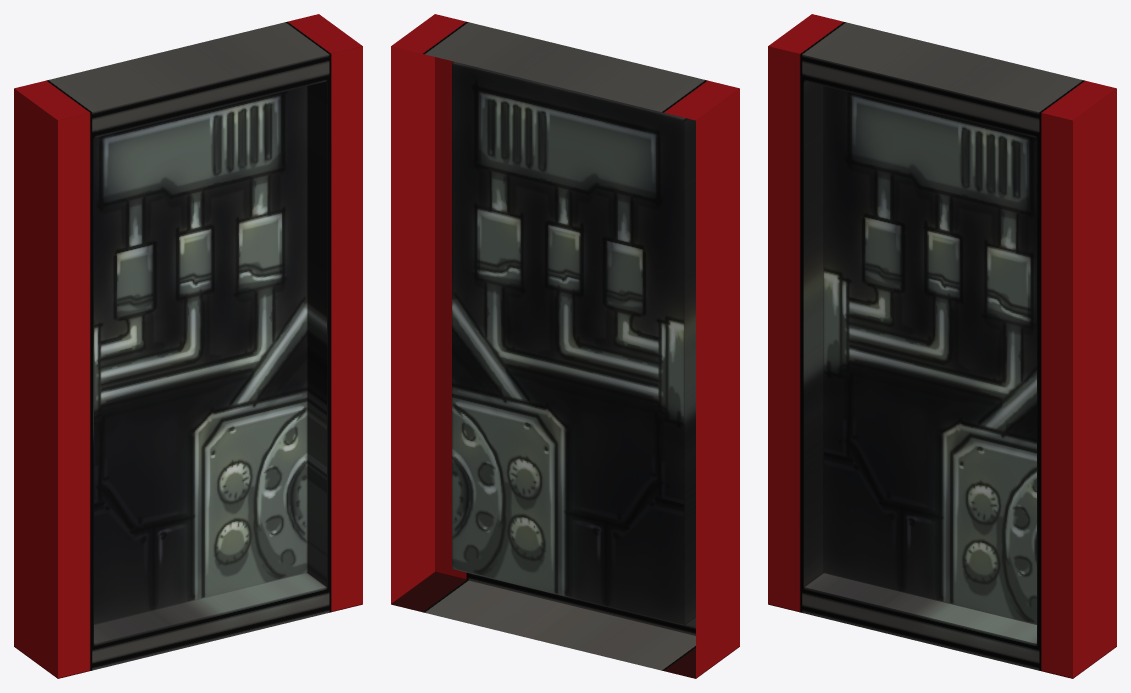
The model's file is ThiNwall.fbx.
The picture shows the model from 3 angles, left to right: view 1: azimuth 30°, elevation 25°; view 2: azimuth 150°, elevation 25°; view 3: azimuth 330°, elevation 25°; orthographic projection.
Parts seen in each view (by area): view 1: thinwall; view 2: thinwall; view 3: thinwall.
Boxes of the visible parts, x1=… form: thinwall: x1=14, y1=14, x2=362, y2=678; thinwall: x1=391, y1=14, x2=739, y2=678; thinwall: x1=768, y1=14, x2=1116, y2=678.
Size of the model in its own units: 5.08 by 8.89 by 1.27.
